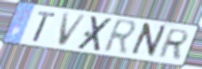N: (127, 22, 169, 60)
R: (101, 17, 139, 57), (155, 28, 192, 61)
T: (31, 10, 58, 44)
V: (56, 12, 89, 48)
X: (75, 16, 116, 53)
